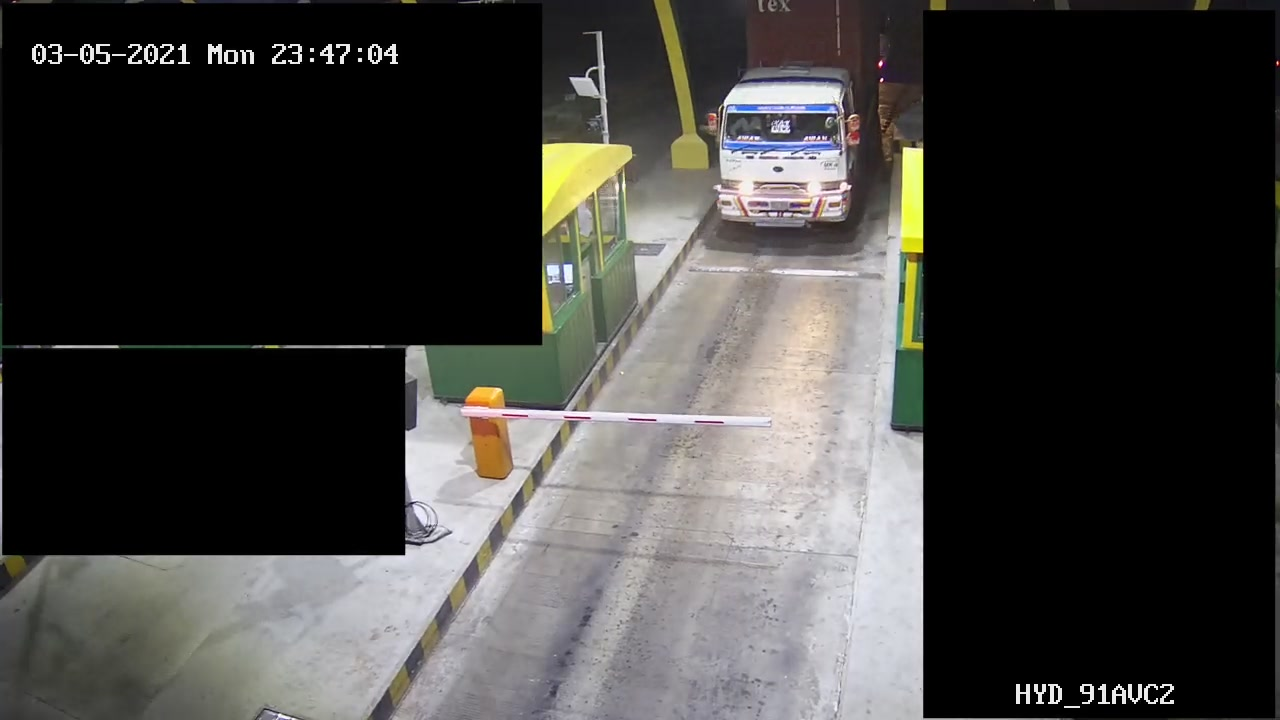F6: (711, 1, 882, 245)
